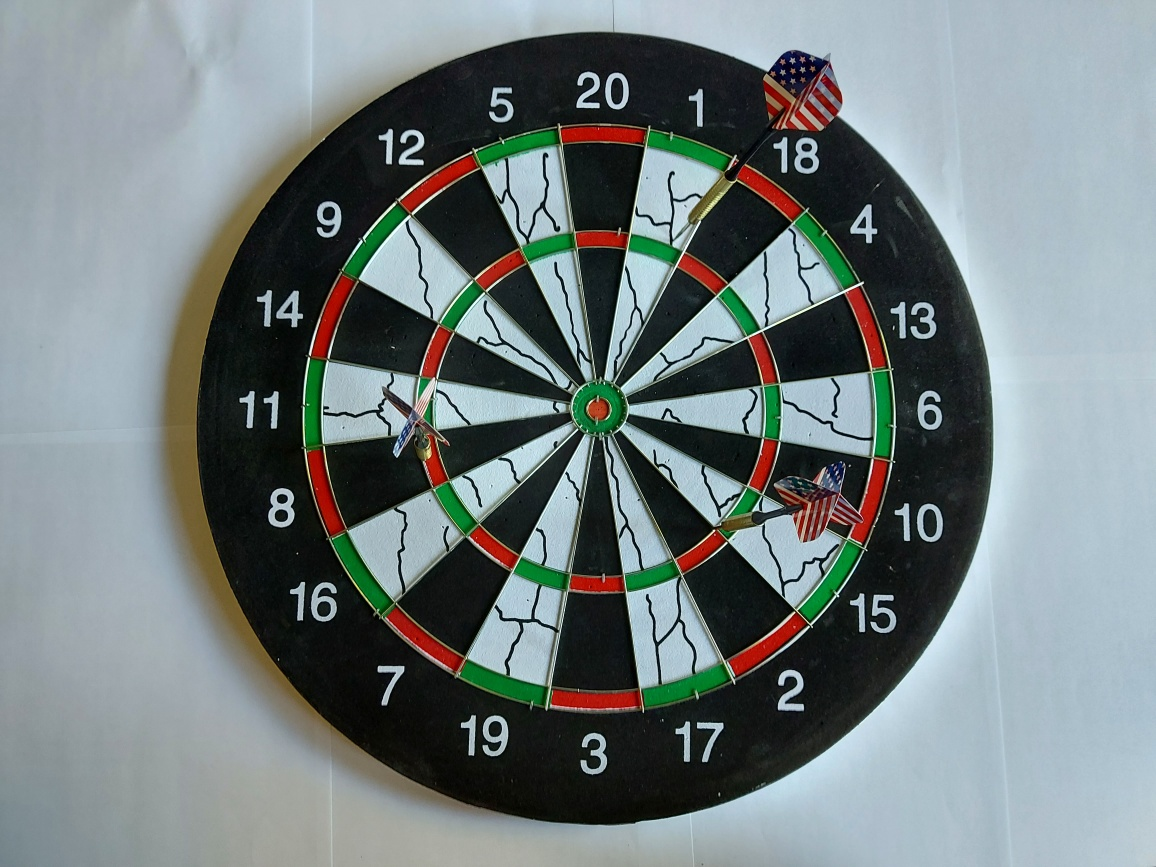Dart: (662, 41, 849, 249), (698, 450, 870, 555), (362, 371, 457, 480)
